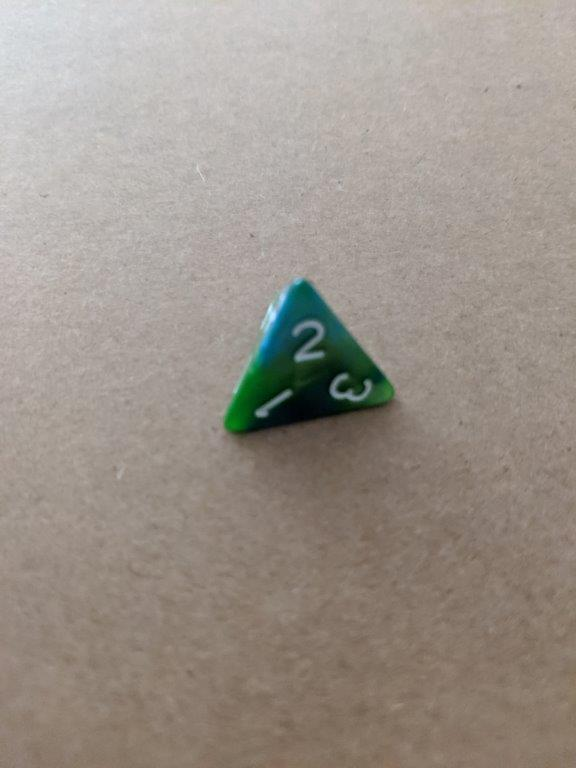d4-2: (219, 273, 402, 440)
